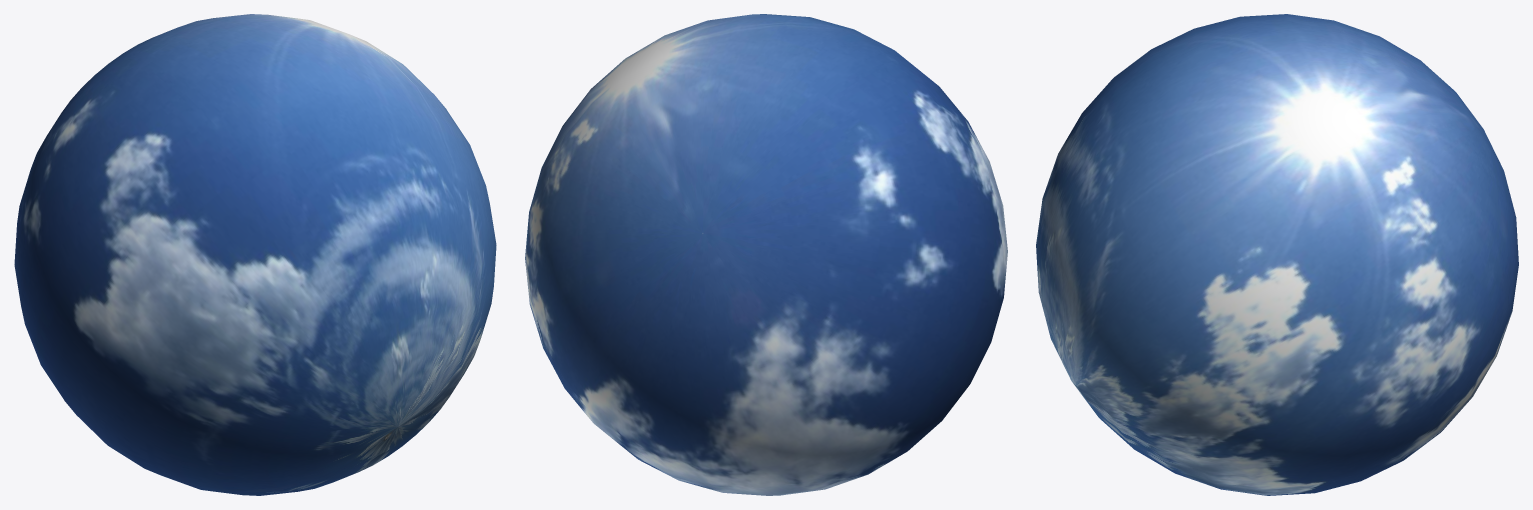
The model's file is ruin_v1u2.FBX.
3 views of the same model, side by side, from view 1: azimuth 30°, elevation 25°; view 2: azimuth 150°, elevation 25°; view 3: azimuth 270°, elevation 25° (orthographic).
Visible parts, largest first — view 1: Sphere001; view 2: Sphere001; view 3: Sphere001.
Part boxes in pixels (left/top/right/bottom): Sphere001: left=14, top=14, right=496, bottom=495; Sphere001: left=525, top=14, right=1007, bottom=495; Sphere001: left=1036, top=14, right=1518, bottom=495.
Bounding box in the file's own units: 82.16 × 82.05 × 82.29.
